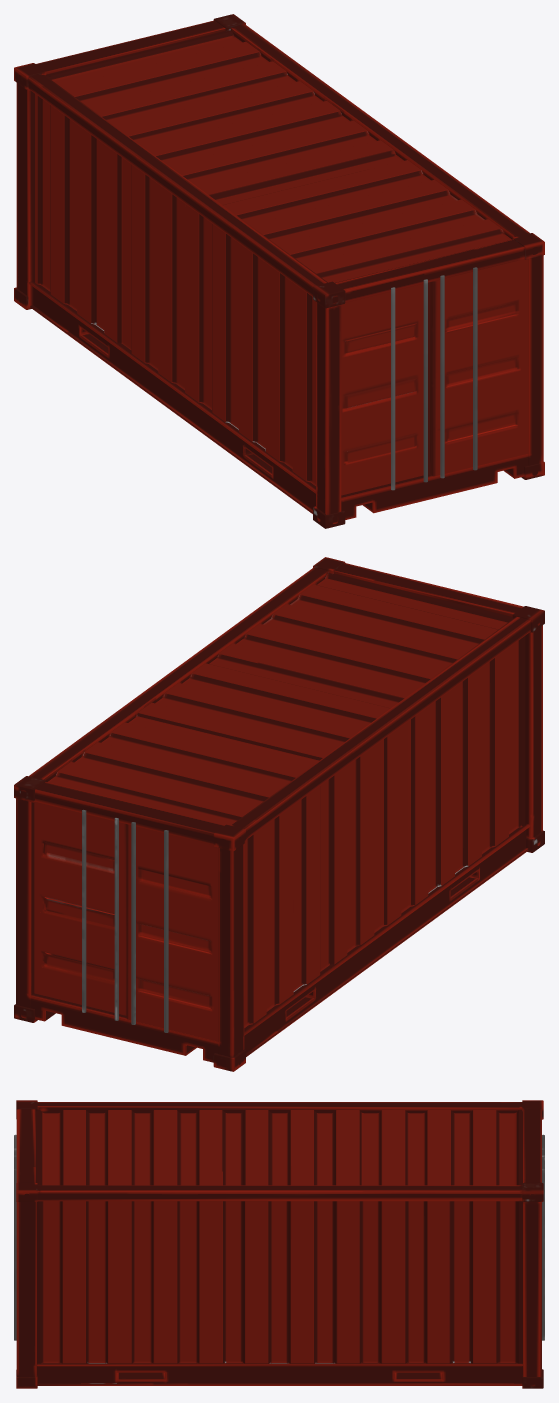
Rendered from container.glb.
3 renders of one model, top to bottom at view 1: azimuth 30°, elevation 25°; view 2: azimuth 150°, elevation 25°; view 3: azimuth 270°, elevation 25°, orthographic. The views are drawn at different scales.
Parts seen in each view (by area): view 1: Object_3, Object_2, Object_4, Object_9; view 2: Object_3, Object_2, Object_4, Object_5, Object_10; view 3: Object_2, Object_3, Object_4, Object_5, Object_6, Object_13.
Boxes of the visible parts, bbox=[...] form: Object_3: bbox=[35, 30, 511, 495]; Object_2: bbox=[16, 20, 543, 523]; Object_4: bbox=[430, 259, 528, 478]; Object_9: bbox=[313, 281, 345, 308]; Object_3: bbox=[47, 573, 525, 1027]; Object_2: bbox=[16, 563, 542, 1066]; Object_4: bbox=[126, 822, 217, 1041]; Object_5: bbox=[34, 802, 126, 1020]; Object_10: bbox=[213, 824, 245, 851]; Object_2: bbox=[16, 1102, 541, 1386]; Object_3: bbox=[14, 1110, 522, 1185]; Object_4: bbox=[14, 1134, 544, 1340]; Object_5: bbox=[542, 1155, 544, 1340]; Object_6: bbox=[16, 1182, 37, 1201]; Object_13: bbox=[522, 1182, 543, 1201].
Bounding box in the file's own units: 6.27 × 6.37 × 15.48.
Materials: 2 (2 with a texture image).
